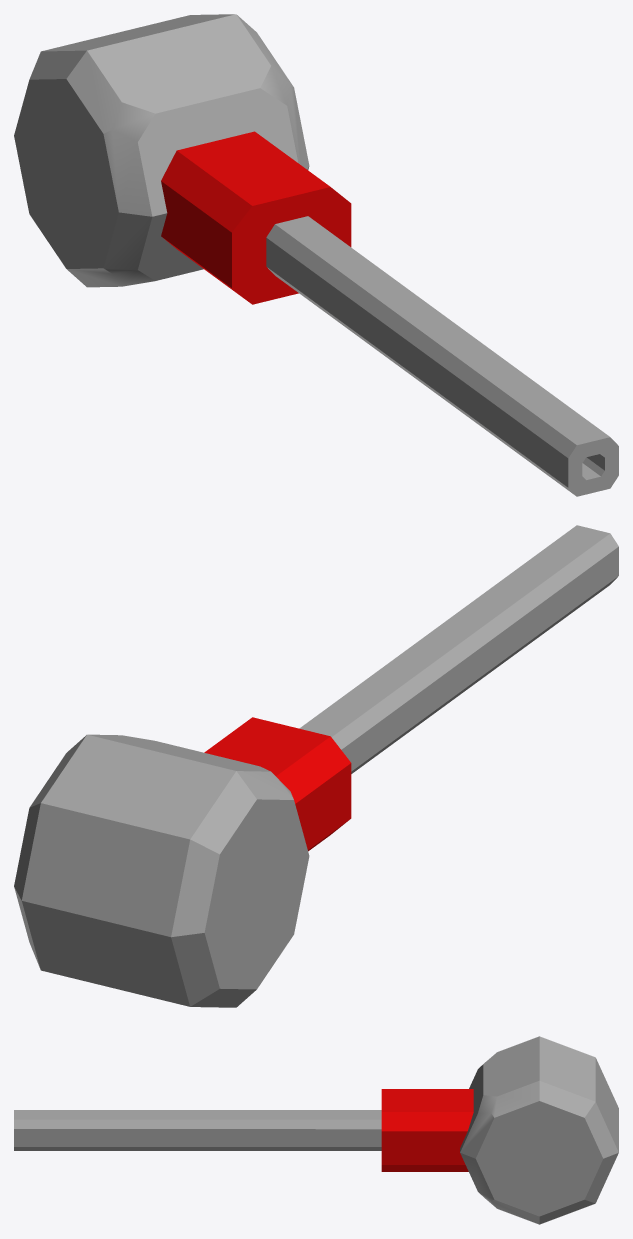
File: Enemy_TurretBarrel_Var2.fbx
The picture shows the model from 3 angles, top to bottom: view 1: azimuth 30°, elevation 25°; view 2: azimuth 150°, elevation 25°; view 3: azimuth 270°, elevation 25°; orthographic projection. The views are drawn at different scales.
Visible parts, largest first — view 1: Enemy_Turret_Barrel_Var2; view 2: Enemy_Turret_Barrel_Var2; view 3: Enemy_Turret_Barrel_Var2.
Part boxes in pixels (box(x1,y1,x2,y2)): Enemy_Turret_Barrel_Var2: box(14, 14, 618, 496); Enemy_Turret_Barrel_Var2: box(14, 525, 618, 1007); Enemy_Turret_Barrel_Var2: box(14, 1036, 618, 1224).
Bounding box in the file's own units: 0.5216 × 0.6193 × 2.36.
